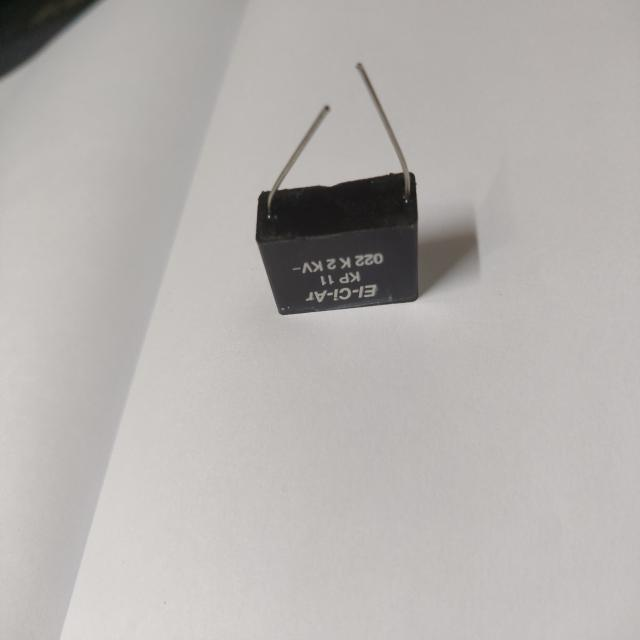capacitor: (256, 63, 418, 315)
